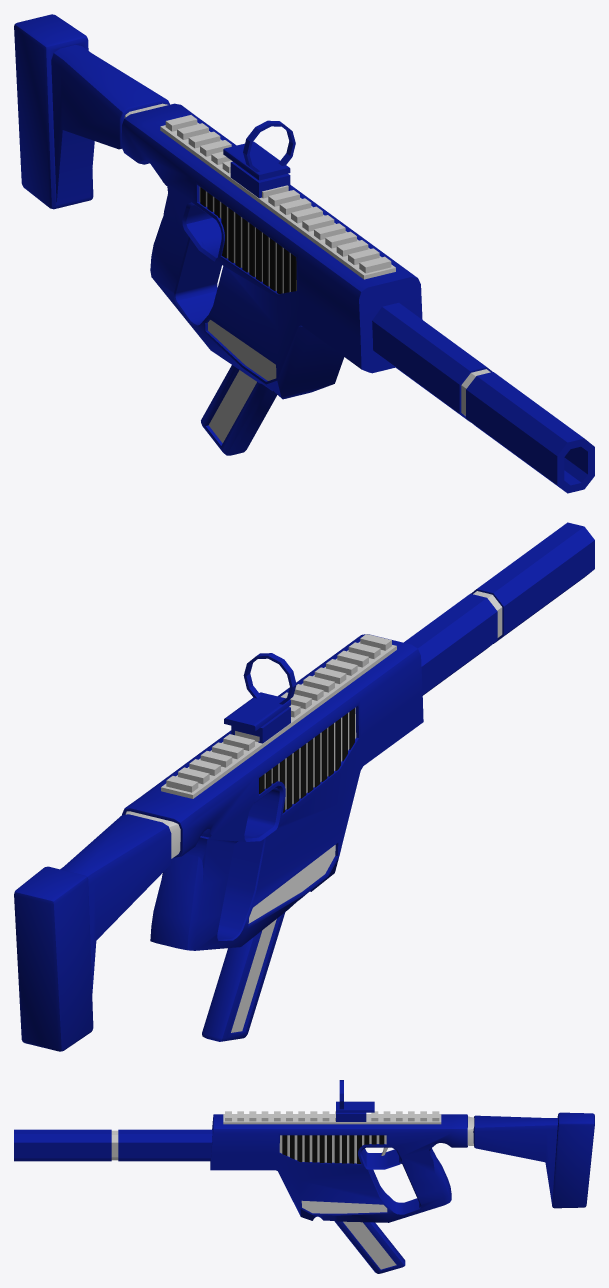
File: vector.obj
The picture shows the model from 3 angles, top to bottom: view 1: azimuth 30°, elevation 25°; view 2: azimuth 150°, elevation 25°; view 3: azimuth 270°, elevation 25°; orthographic projection. The views are drawn at different scales.
Visible parts, largest first — view 1: Plane, Cube, attachments_holder, Plane.001, Cube.002, Reflex, Slider; view 2: Plane, Cube, Plane.001, attachments_holder, Cube.002, Reflex, Slider; view 3: Plane, Cube, Plane.001, Cube.001, Slider, attachments_holder, Reflex.
Boxes of the visible parts, x1=… form: Plane: x1=14, y1=14, x2=422, y2=399; Cube: x1=372, y1=302, x2=594, y2=493; attachments_holder: x1=165, y1=115, x2=391, y2=273; Plane.001: x1=201, y1=365, x2=277, y2=455; Cube.002: x1=200, y1=187, x2=296, y2=293; Reflex: x1=223, y1=120, x2=295, y2=198; Slider: x1=160, y1=122, x2=395, y2=279; Plane: x1=14, y1=634, x2=423, y2=1051; Cube: x1=404, y1=522, x2=594, y2=695; Plane.001: x1=202, y1=912, x2=285, y2=1041; attachments_holder: x1=166, y1=634, x2=391, y2=792; Cube.002: x1=259, y1=708, x2=354, y2=812; Reflex: x1=224, y1=653, x2=296, y2=743; Slider: x1=161, y1=641, x2=396, y2=798; Plane: x1=210, y1=1112, x2=594, y2=1222; Cube: x1=14, y1=1129, x2=212, y2=1161; Plane.001: x1=334, y1=1221, x2=405, y2=1273; Cube.001: x1=282, y1=1135, x2=384, y2=1163; Slider: x1=223, y1=1114, x2=441, y2=1124; attachments_holder: x1=225, y1=1111, x2=439, y2=1121; Reflex: x1=336, y1=1080, x2=374, y2=1121.
Size of the model in its own units: 0.6141 by 3.36 by 9.28.
